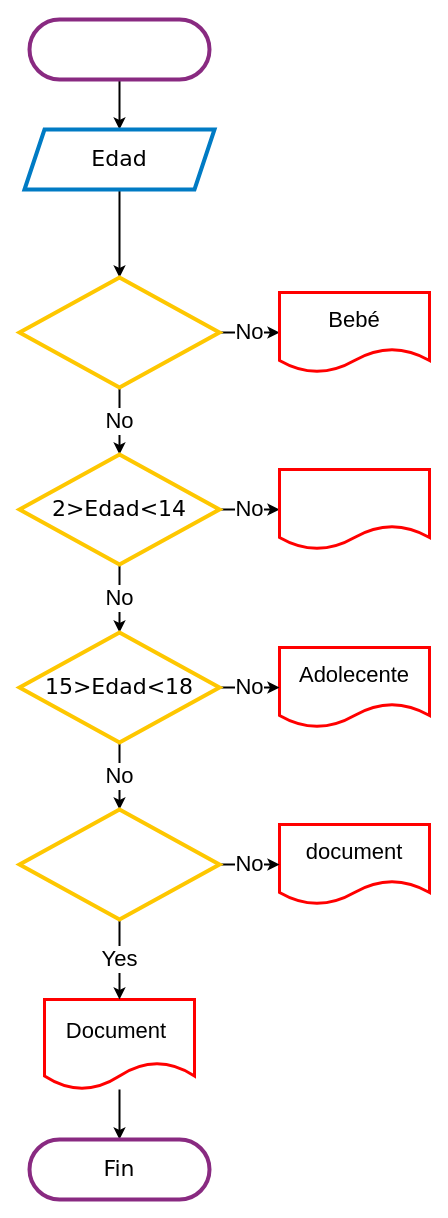
The diagram is 448 pixels wide and 1218 high, and some of its shapes have lost their labels. The shapes that lost their labels are listed below. From the top down, each one's box as (x1, y1, x2, y2) in pixels, then its label:
(27, 17, 211, 81): Inicio
(17, 275, 221, 389): 0>Edad<2
(278, 468, 430, 550): Niño
(17, 807, 221, 921): 19>Edad<60
